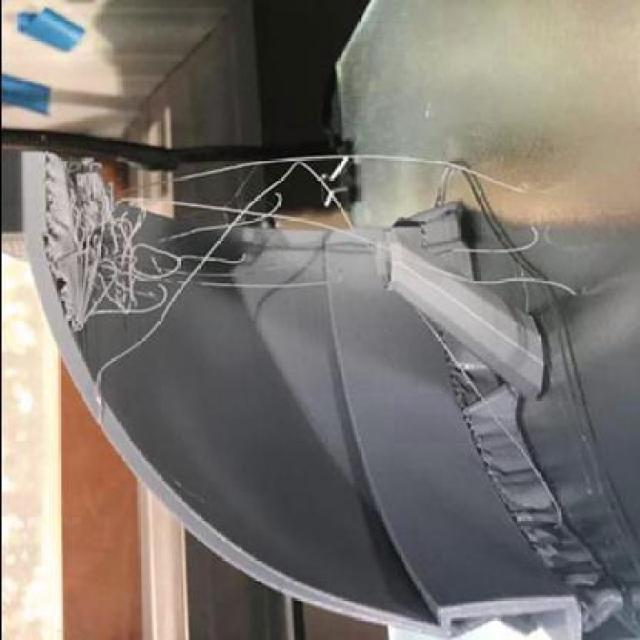Spaghetti: (63, 153, 577, 330)
